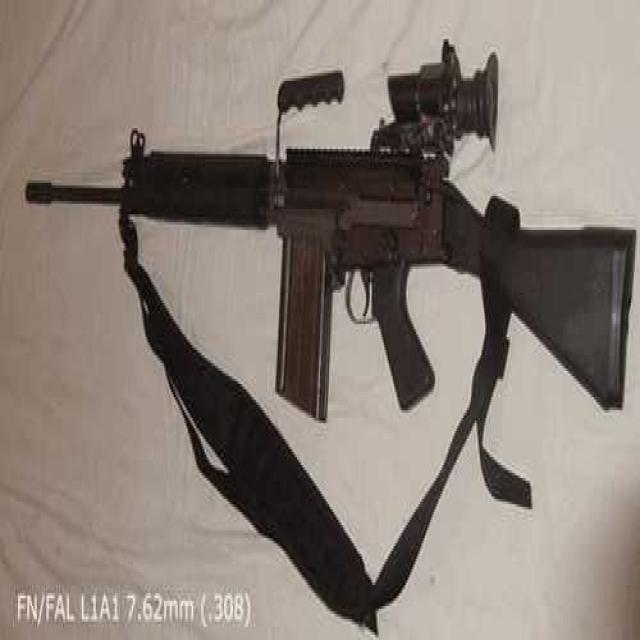RifleTel: (20, 24, 639, 462)
